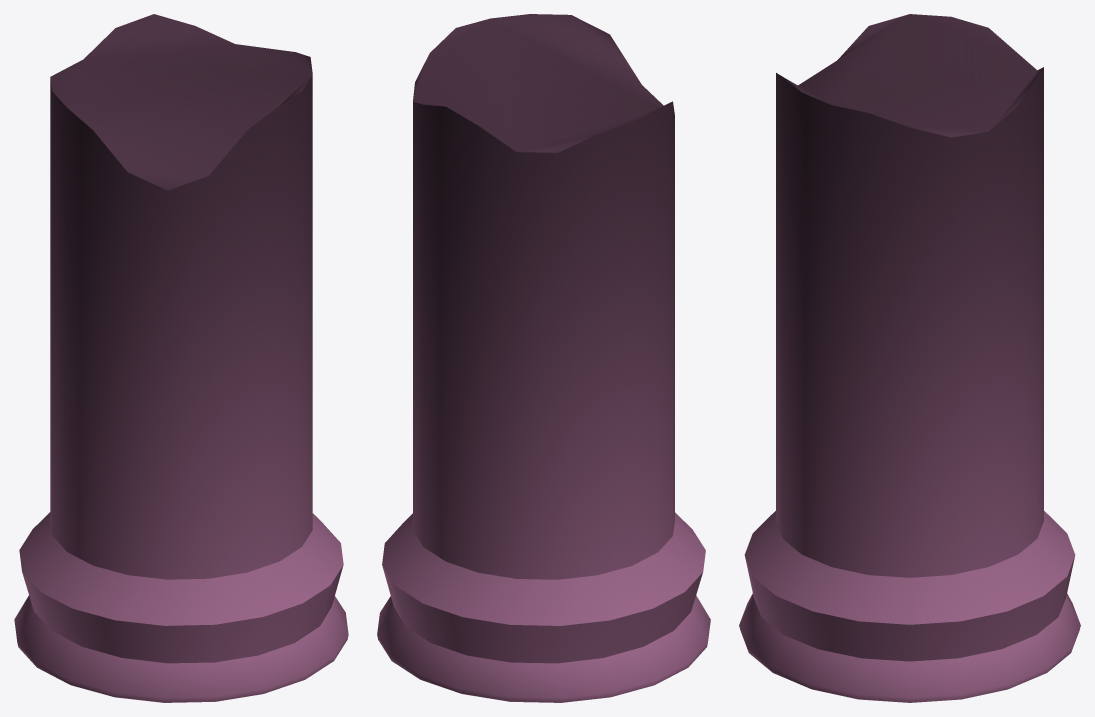
File: RoundedPillar.FBX
3 renders of one model, left to right at view 1: azimuth 30°, elevation 25°; view 2: azimuth 150°, elevation 25°; view 3: azimuth 270°, elevation 25°, orthographic.
Visible parts, largest first — view 1: Round Pillar; view 2: Round Pillar; view 3: Round Pillar.
Part boxes in pixels (x1=…): Round Pillar: x1=14, y1=14, x2=348, y2=702; Round Pillar: x1=377, y1=14, x2=710, y2=702; Round Pillar: x1=739, y1=14, x2=1080, y2=702.
Size of the model in its own units: 12.21 by 22.84 by 12.26.
1 material, 1 textured.
